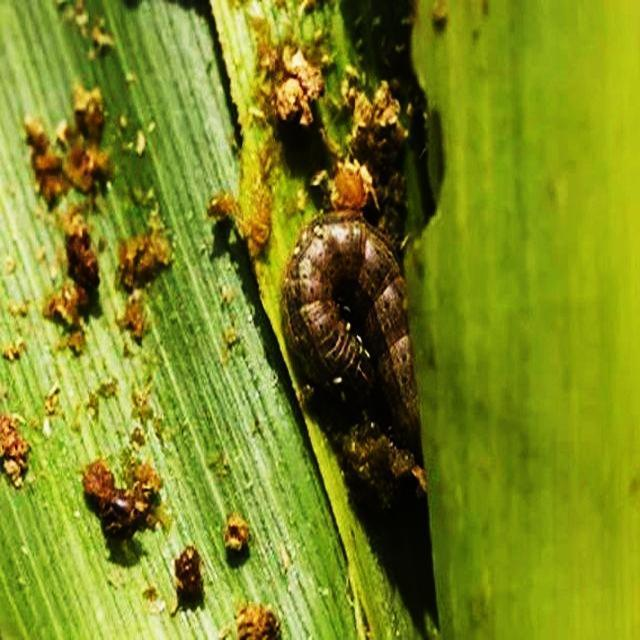gusano_cogollero: (279, 204, 416, 454)
